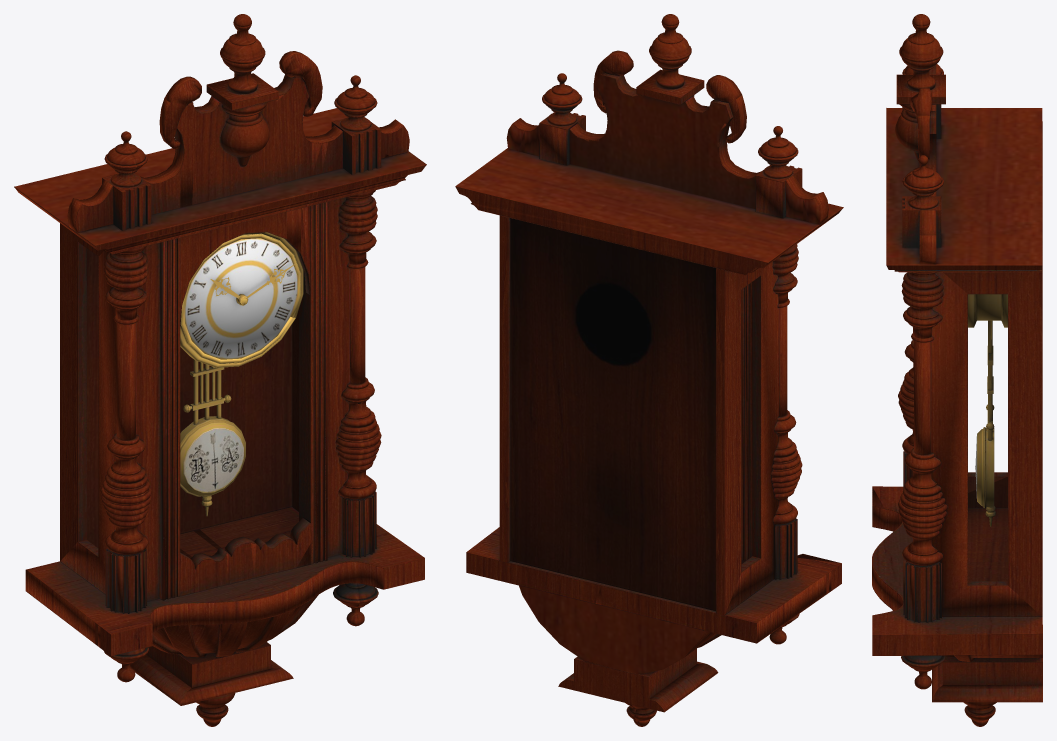
3 views of the same model, side by side, from view 1: azimuth 30°, elevation 25°; view 2: azimuth 150°, elevation 25°; view 3: azimuth 270°, elevation 25° (orthographic). The views are drawn at different scales.
Visible parts, largest first — view 1: Object_3, Object_1; view 2: Object_3; view 3: Object_3, Object_1.
Boxes of the visible parts, x1=… form: Object_3: x1=14, y1=14, x2=426, y2=726; Object_1: x1=180, y1=277, x2=245, y2=516; Object_3: x1=455, y1=14, x2=843, y2=726; Object_3: x1=872, y1=14, x2=1042, y2=726; Object_1: x1=975, y1=320, x2=995, y2=526.
Size of the model in its own units: 6.29 by 13.21 by 2.88.
Materials: 1 (1 with a texture image).
